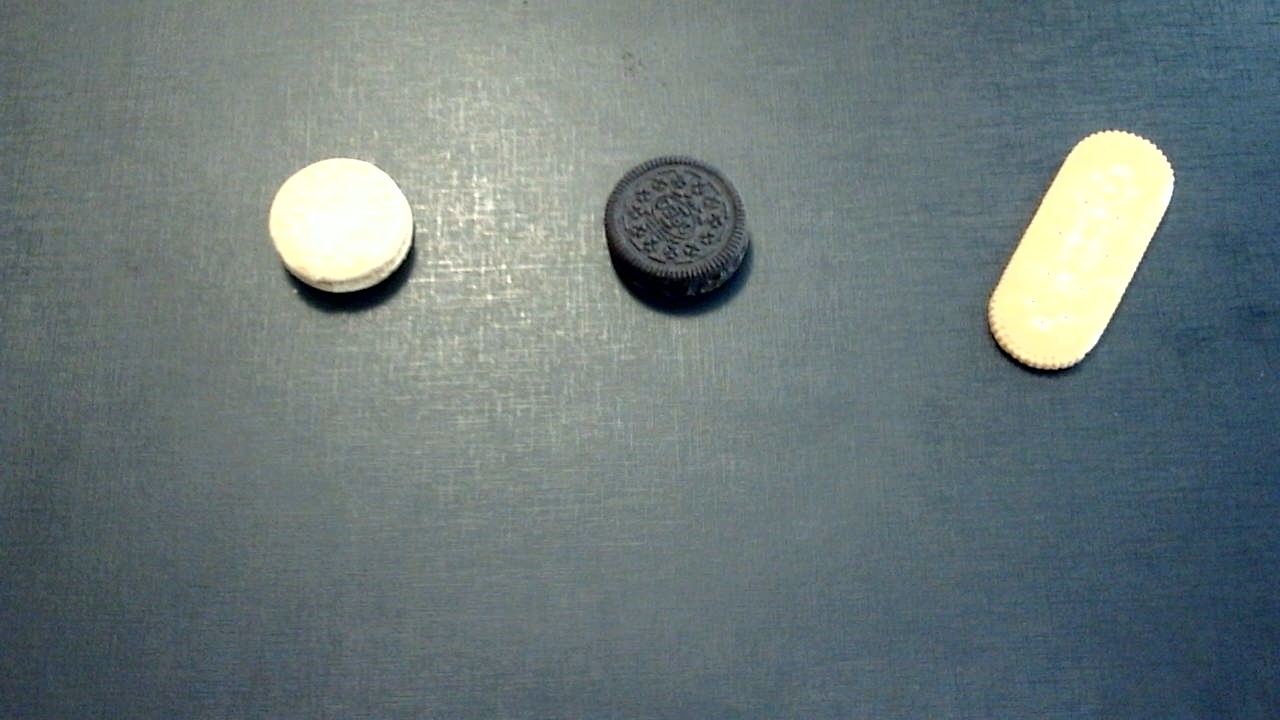lulu: (268, 156, 414, 295)
oreo: (605, 154, 749, 297)
solar: (989, 131, 1176, 370)
